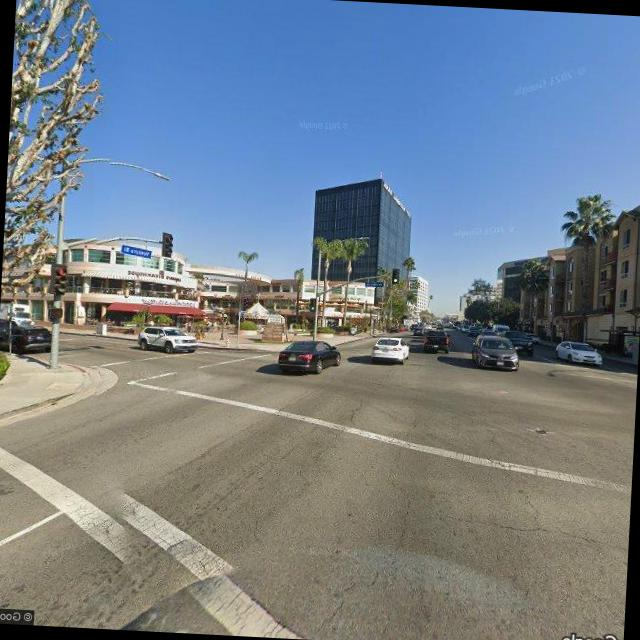crack: (437, 509, 622, 547)
